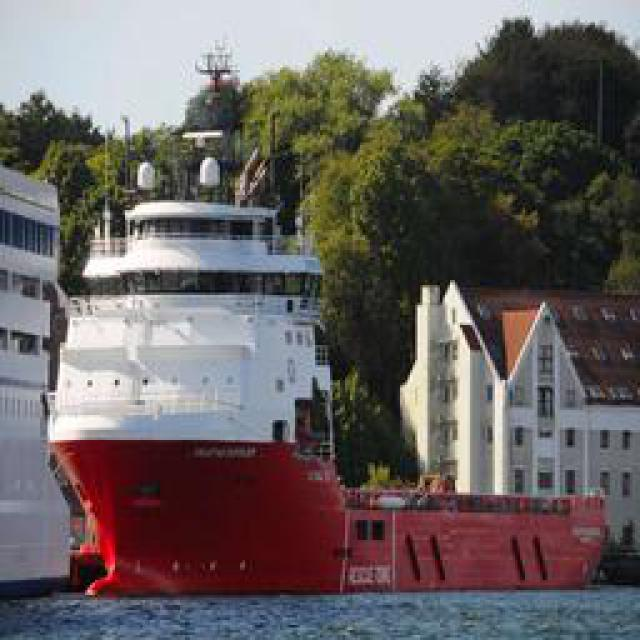Ship: (41, 72, 627, 602)
